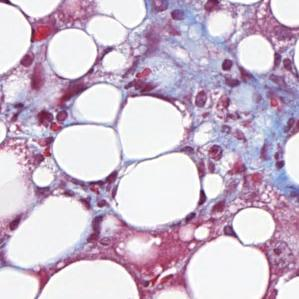inflammation: (123, 67, 162, 94), (219, 55, 242, 91), (206, 141, 225, 166)
